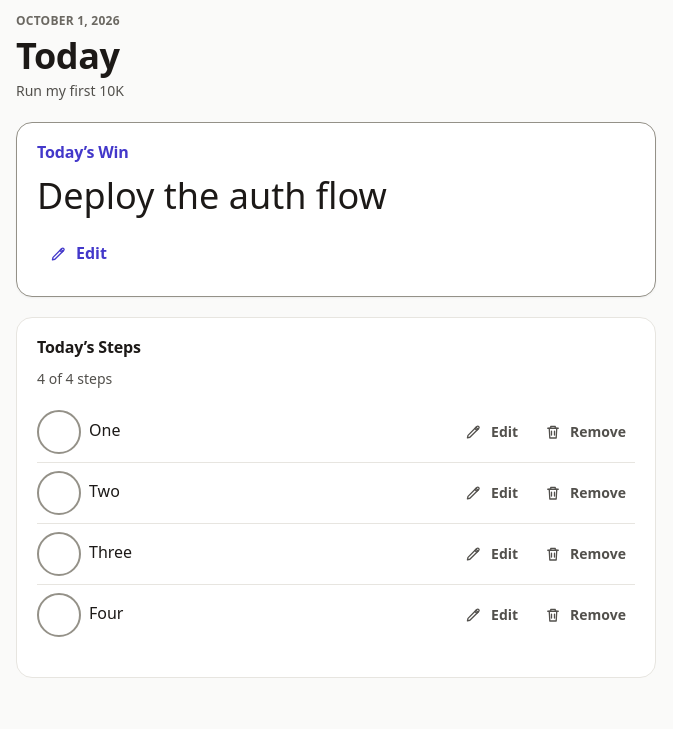
Scenario: Today Daily Step completion UI › shows a removal persistence error even when all four Step slots are filled
Click the button with aria-label "Remove step 1" at (585, 432), box x1=535 y1=410 x2=635 y2=454
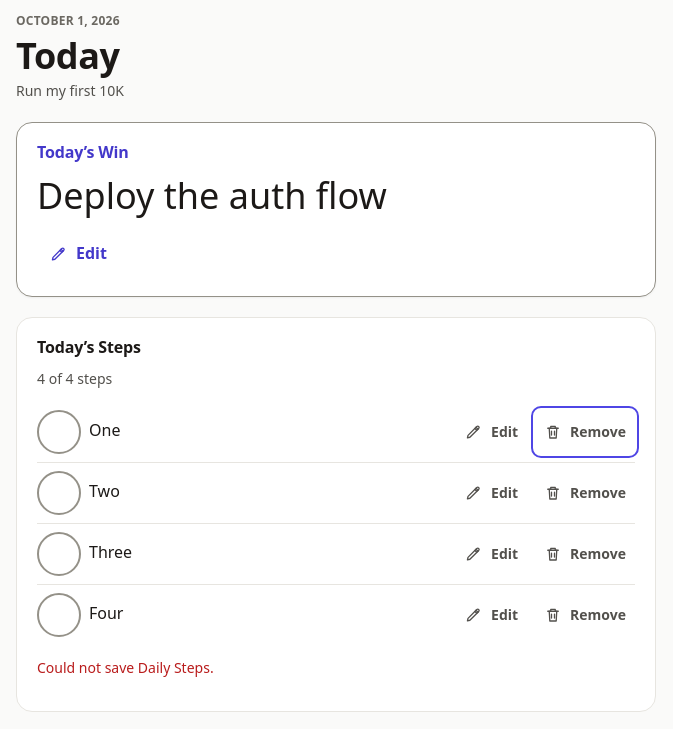
Expected: the number of checkboxes is 4, x1=37 y1=410 x2=81 y2=454; x1=37 y1=471 x2=81 y2=515; x1=37 y1=532 x2=81 y2=576; x1=37 y1=593 x2=81 y2=637
Now the message reads "Could not save Daily Steps.", box x1=37 y1=658 x2=214 y2=677
